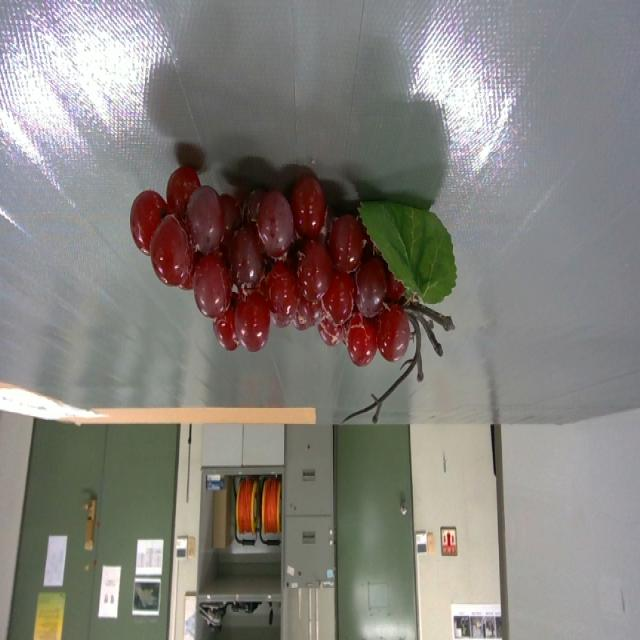grape: (130, 166, 456, 421)
